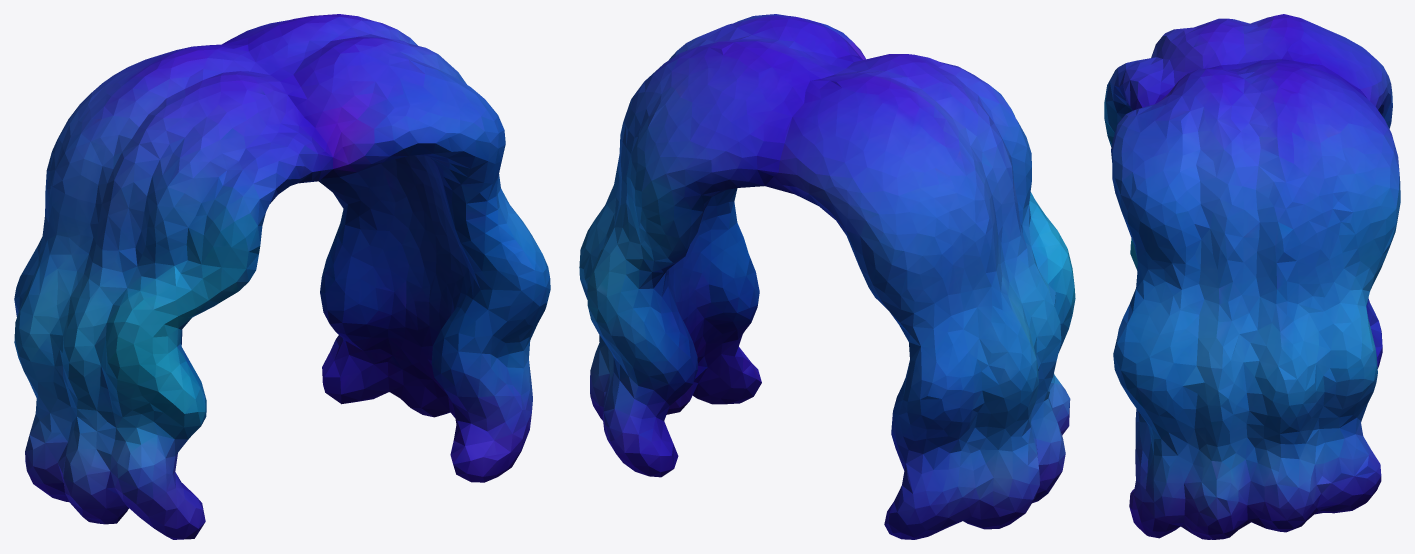
The model's file is hairstyle_123.glb.
3 renders of one model, left to right at view 1: azimuth 30°, elevation 25°; view 2: azimuth 150°, elevation 25°; view 3: azimuth 270°, elevation 25°, orthographic. The views are drawn at different scales.
Visible parts, largest first — view 1: geometry_0_123; view 2: geometry_0_123; view 3: geometry_0_123.
Part boxes in pixels (x1,y1,x2,y2): geometry_0_123: (14, 14, 550, 539); geometry_0_123: (579, 14, 1075, 539); geometry_0_123: (1104, 14, 1400, 539).
Bounding box in the file's own units: 1.42 × 1.27 × 0.8287.
1 material, 1 textured.
